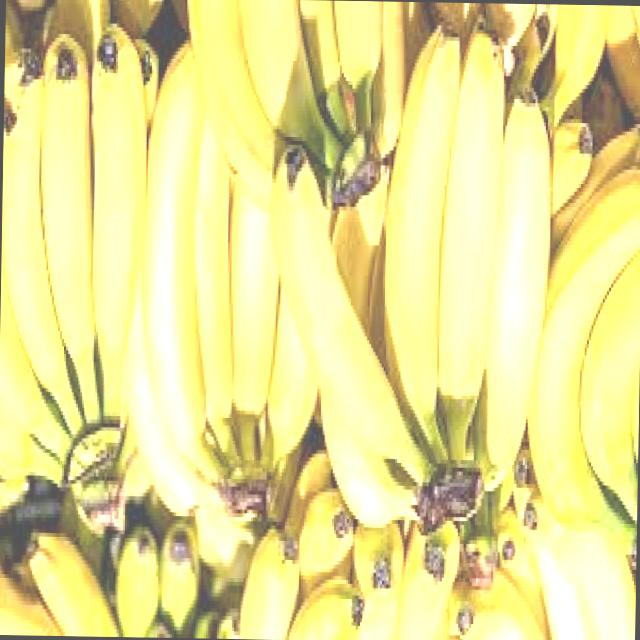Banana: (266, 24, 554, 534), (118, 42, 322, 525), (0, 28, 149, 492), (524, 117, 640, 584), (184, 0, 407, 218)
